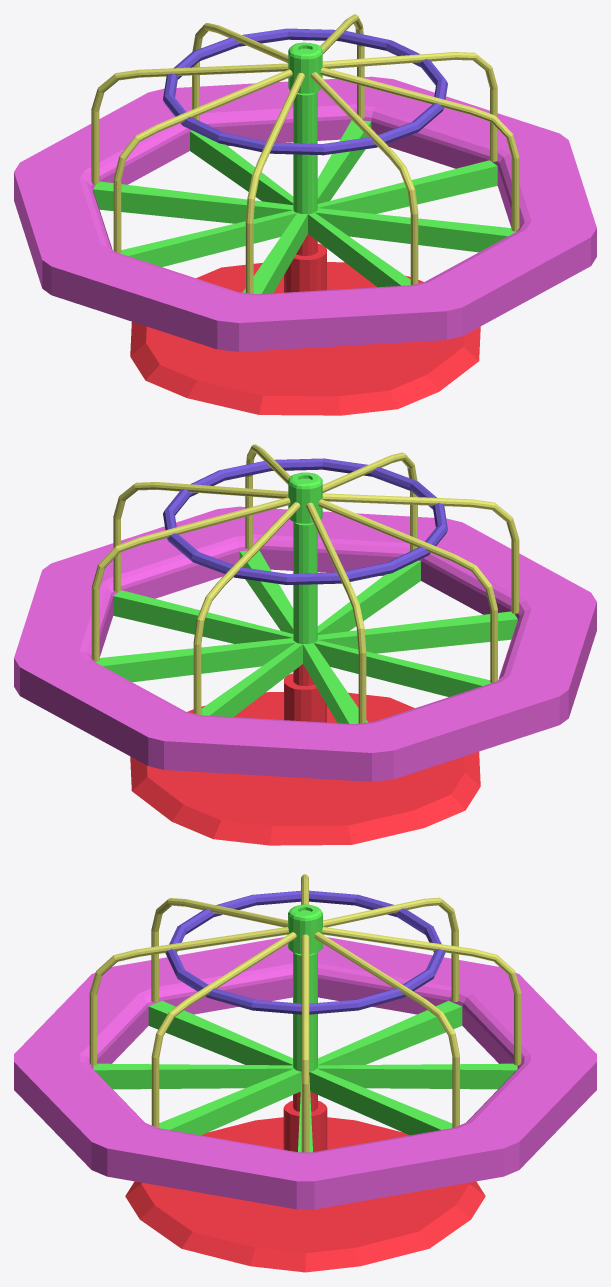
Rendered from Carrossel.fbx.
3 renders of one model, top to bottom at view 1: azimuth 30°, elevation 25°; view 2: azimuth 150°, elevation 25°; view 3: azimuth 270°, elevation 25°, orthographic. The views are drawn at different scales.
Visible parts, largest first — view 1: Carrossel; view 2: Carrossel; view 3: Carrossel.
Part boxes in pixels (x1,y1,x2,y2): Carrossel: [14, 14, 596, 415]; Carrossel: [14, 444, 596, 845]; Carrossel: [14, 874, 596, 1272].
Size of what is drawn, in the model's own units: 2.99 by 1.62 by 2.99.
